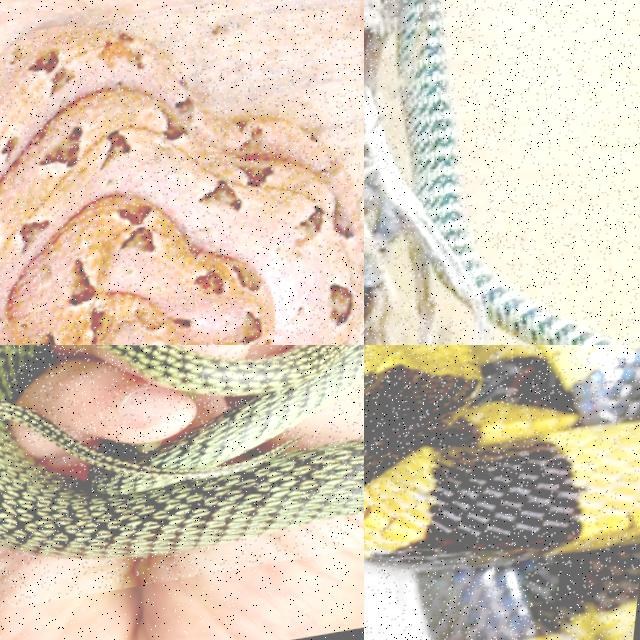Bungarus fasciatus: (364, 345, 639, 639)
Calloselasma rhodostoma: (0, 26, 363, 344)
Chrysopelea ornata: (0, 345, 363, 559), (396, 0, 615, 344)
snake: (0, 26, 363, 344), (364, 345, 639, 639), (0, 345, 363, 559), (396, 0, 615, 344)
